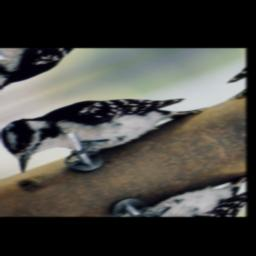Woodpecker: (0, 64, 214, 183)
